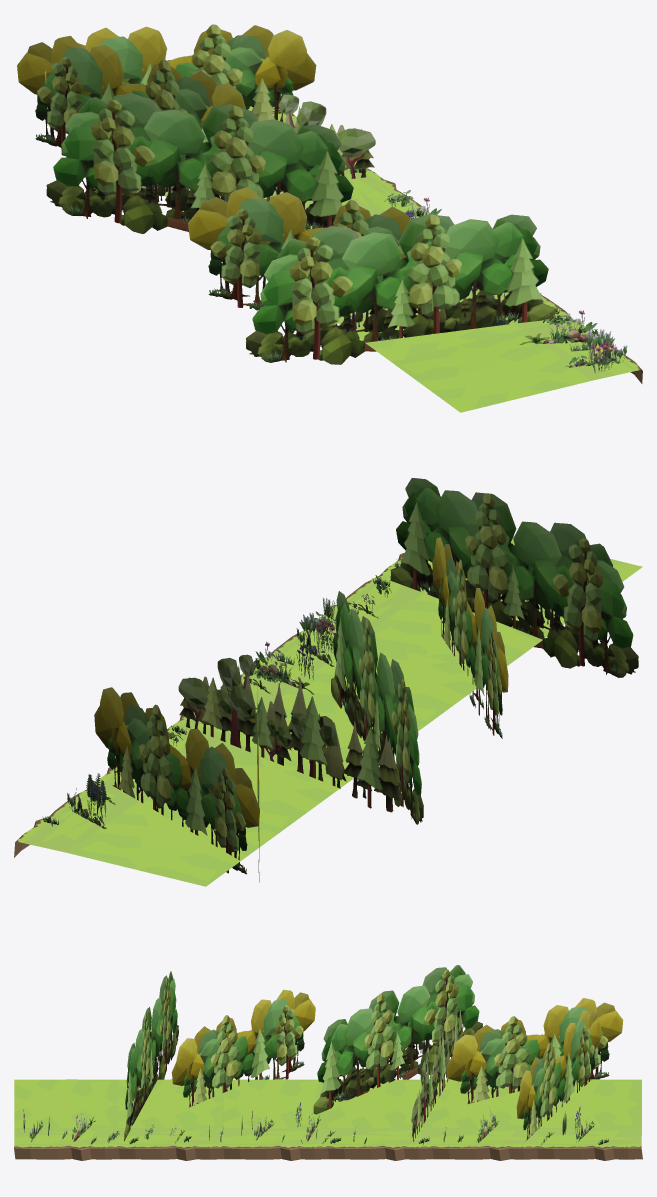
Rendered from Set_01_Left_Side_01.FBX.
The picture shows the model from 3 angles, top to bottom: view 1: azimuth 30°, elevation 25°; view 2: azimuth 150°, elevation 25°; view 3: azimuth 270°, elevation 25°; orthographic projection. The views are drawn at different scales.
Visible parts, largest first — view 1: Plants_Plane_114, Plants_Plane_175, Right_Side_Ground_01, Plants_Plane_178, Plants_Plane_174, Plants_Plane_002, Plants_Plane_003, Plants_Plane_158, Plants_Plane_159; view 2: Right_Side_Ground_01, Plants_Plane_114, Plants_Plane_002, Plants_Plane_003, Plants_Plane_175, Plants_Plane_174, Plants_Plane_117; view 3: Right_Side_Ground_01, Plants_Plane_175, Plants_Plane_174, Plants_Plane_178, Plants_Plane_002, Plants_Plane_114, Plants_Plane_003.
Boxes of the visible parts, x1=… form: Plants_Plane_114: x1=246, y1=214, x2=555, y2=364; Plants_Plane_175: x1=46, y1=93, x2=353, y2=233; Right_Side_Ground_01: x1=47, y1=103, x2=642, y2=412; Plants_Plane_178: x1=17, y1=36, x2=245, y2=155; Plants_Plane_174: x1=188, y1=187, x2=419, y2=310; Plants_Plane_002: x1=44, y1=24, x2=316, y2=121; Plants_Plane_003: x1=94, y1=94, x2=375, y2=194; Plants_Plane_158: x1=519, y1=310, x2=598, y2=344; Plants_Plane_159: x1=565, y1=338, x2=627, y2=367; Right_Side_Ground_01: x1=14, y1=535, x2=642, y2=886; Plants_Plane_114: x1=390, y1=478, x2=638, y2=677; Plants_Plane_002: x1=94, y1=687, x2=259, y2=874; Plants_Plane_003: x1=178, y1=654, x2=402, y2=812; Plants_Plane_175: x1=331, y1=591, x2=423, y2=824; Plants_Plane_174: x1=432, y1=537, x2=508, y2=738; Plants_Plane_117: x1=255, y1=641, x2=313, y2=694; Right_Side_Ground_01: x1=14, y1=1079, x2=642, y2=1160; Plants_Plane_175: x1=313, y1=965, x2=482, y2=1114; Plants_Plane_174: x1=171, y1=989, x2=315, y2=1107; Plants_Plane_178: x1=446, y1=998, x2=623, y2=1103; Plants_Plane_002: x1=516, y1=1010, x2=601, y2=1140; Plants_Plane_114: x1=124, y1=971, x2=178, y2=1141; Plants_Plane_003: x1=411, y1=1010, x2=463, y2=1141.
Bounding box in the file's own units: 850 × 480 × 2044.
